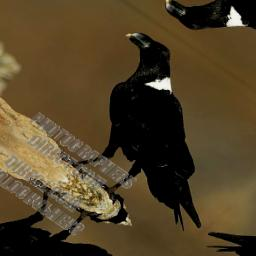Crow: (11, 25, 256, 249)
